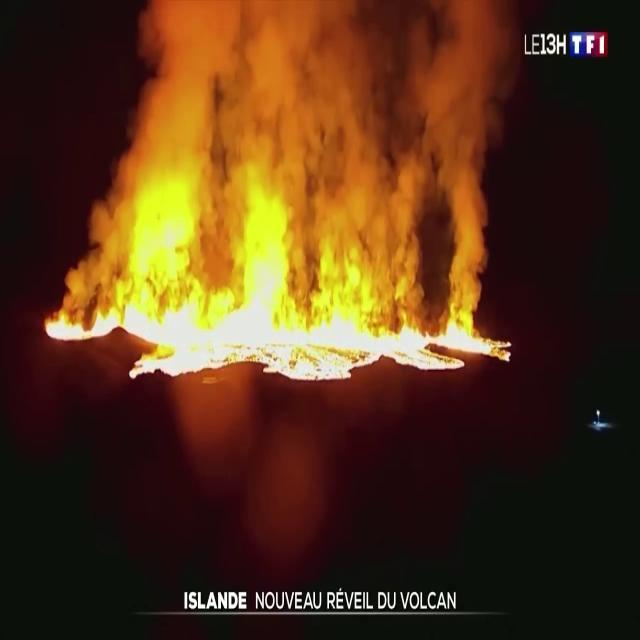Fire: (24, 0, 538, 273), (38, 203, 490, 384)
